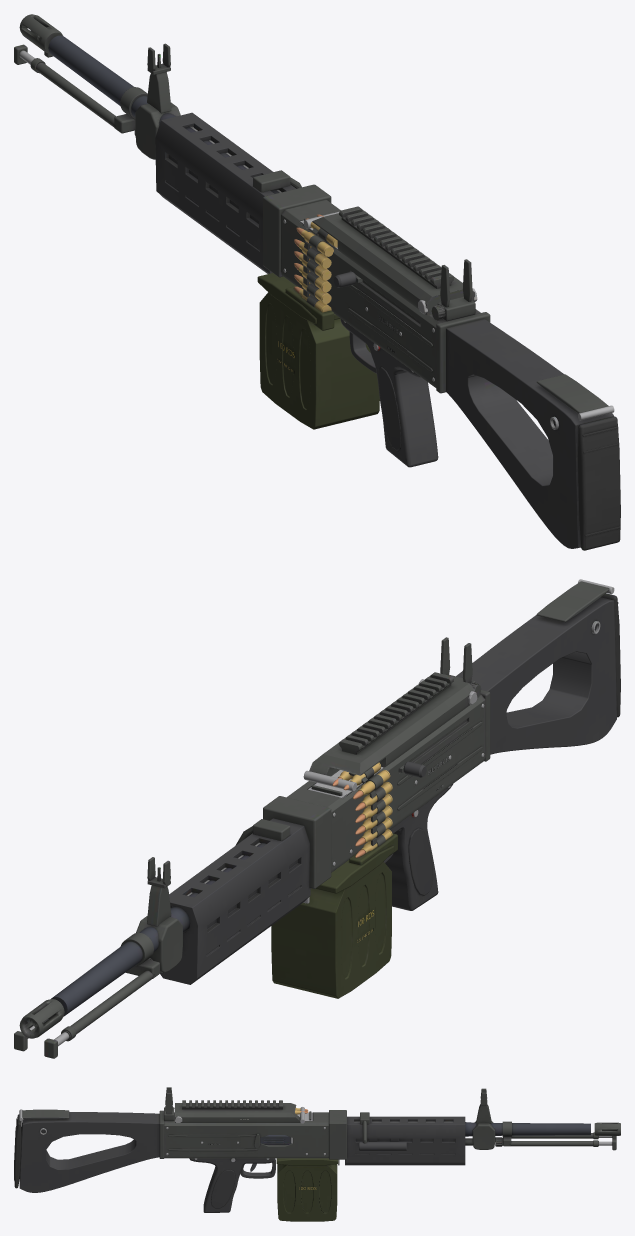
File: lmg.glb
The picture shows the model from 3 angles, top to bottom: view 1: azimuth 30°, elevation 25°; view 2: azimuth 150°, elevation 25°; view 3: azimuth 270°, elevation 25°; orthographic projection. The views are drawn at different scales.
Visible parts, largest first — view 1: body, mag, cover; view 2: body, mag, cover; view 3: body, mag, cover, slide.
Boxes of the visible parts, x1,y1,x2,y2 form: body: (14,14,620,550); mag: (257,214,379,429); cover: (303,206,477,315); body: (14,579,620,1058); mag: (271,762,397,998); cover: (303,672,477,791); body: (14,1087,620,1212); mag: (276,1108,339,1221); cover: (174,1100,304,1123); slide: (260,1135,292,1144).
Bounding box in the file's own units: 0.0861 × 0.23 × 1.01.
15 materials, 15 textured.
